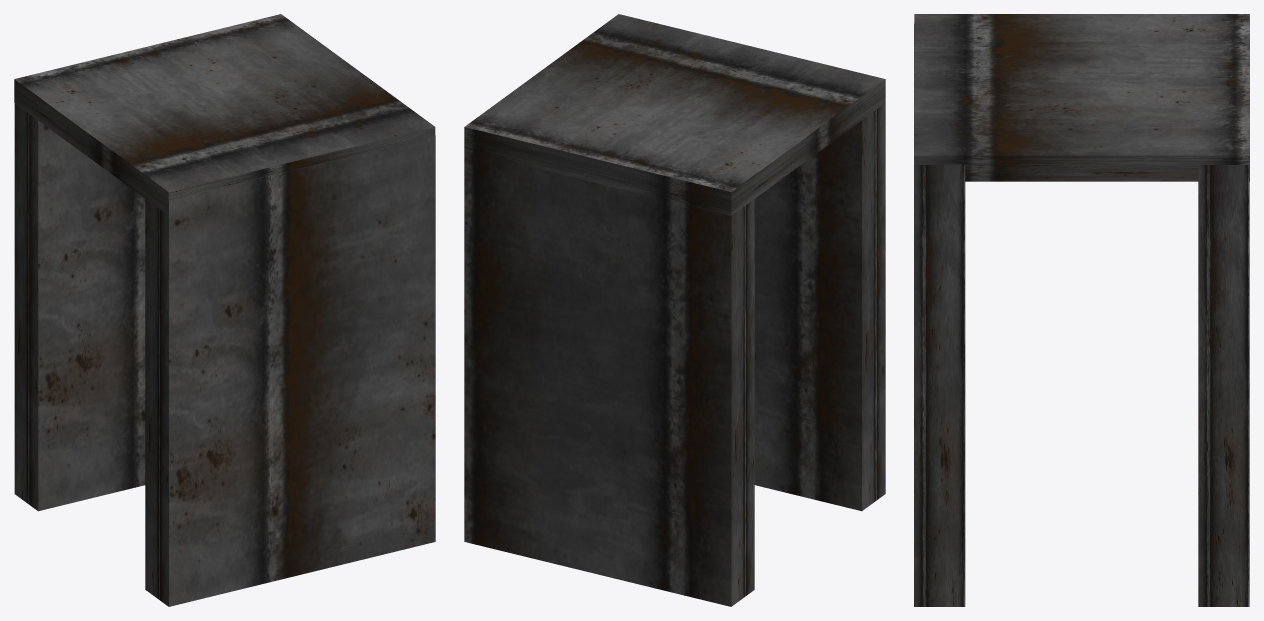
File: connector.obj
The picture shows the model from 3 angles, left to right: view 1: azimuth 30°, elevation 25°; view 2: azimuth 150°, elevation 25°; view 3: azimuth 270°, elevation 25°; orthographic projection. The views are drawn at different scales.
Visible parts, largest first — view 1: rightframe_Cube.009, top_Cube.011, leftframe_Cube.010; view 2: leftframe_Cube.010, top_Cube.011, rightframe_Cube.009; view 3: top_Cube.011, rightframe_Cube.009, leftframe_Cube.010.
Boxes of the visible parts, x1,y1,x2,y2 form: rightframe_Cube.009: (145, 135, 435, 606); top_Cube.011: (14, 14, 435, 215); leftframe_Cube.010: (14, 103, 145, 511); leftframe_Cube.010: (464, 151, 754, 606); top_Cube.011: (464, 14, 885, 215); rightframe_Cube.009: (754, 103, 885, 511); top_Cube.011: (914, 14, 1249, 181); rightframe_Cube.009: (914, 24, 965, 606); leftframe_Cube.010: (1198, 165, 1249, 606).
Size of the model in its own units: 0.9935 by 1.47 by 0.9947.
1 material, 1 textured.
